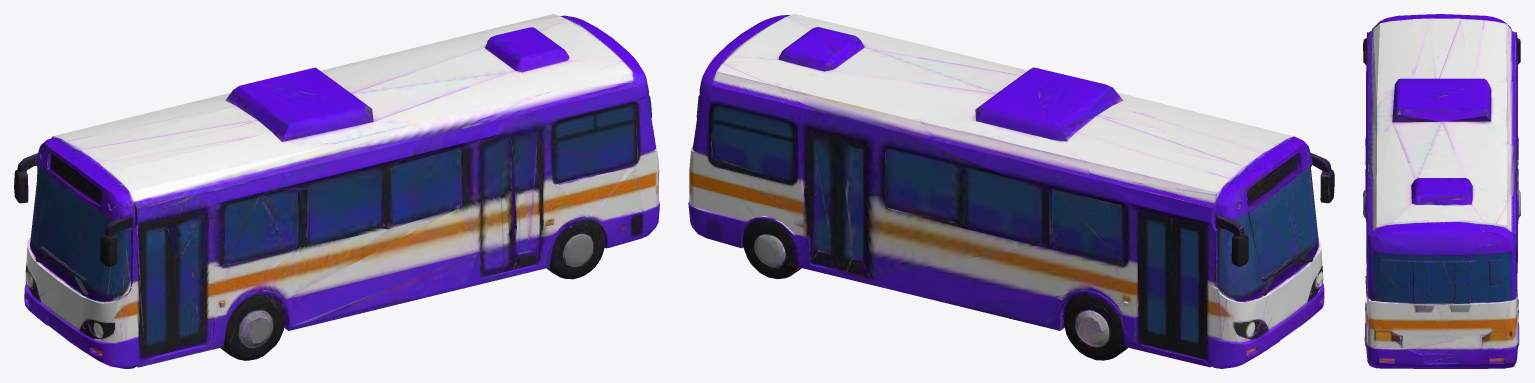
The model's file is bus.glb.
3 renders of one model, left to right at view 1: azimuth 30°, elevation 25°; view 2: azimuth 150°, elevation 25°; view 3: azimuth 270°, elevation 25°, orthographic. The views are drawn at different scales.
Bounding box in the file's own units: 1.9 × 0.6783 × 0.5561.
1 material, 1 textured.
